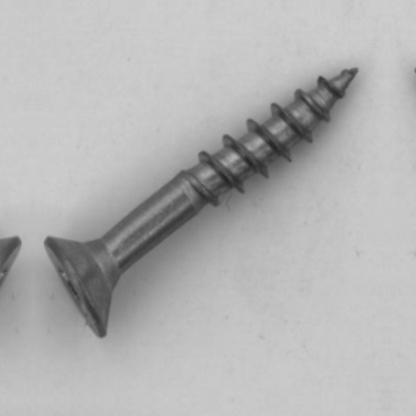metal: (43, 67, 358, 338)
